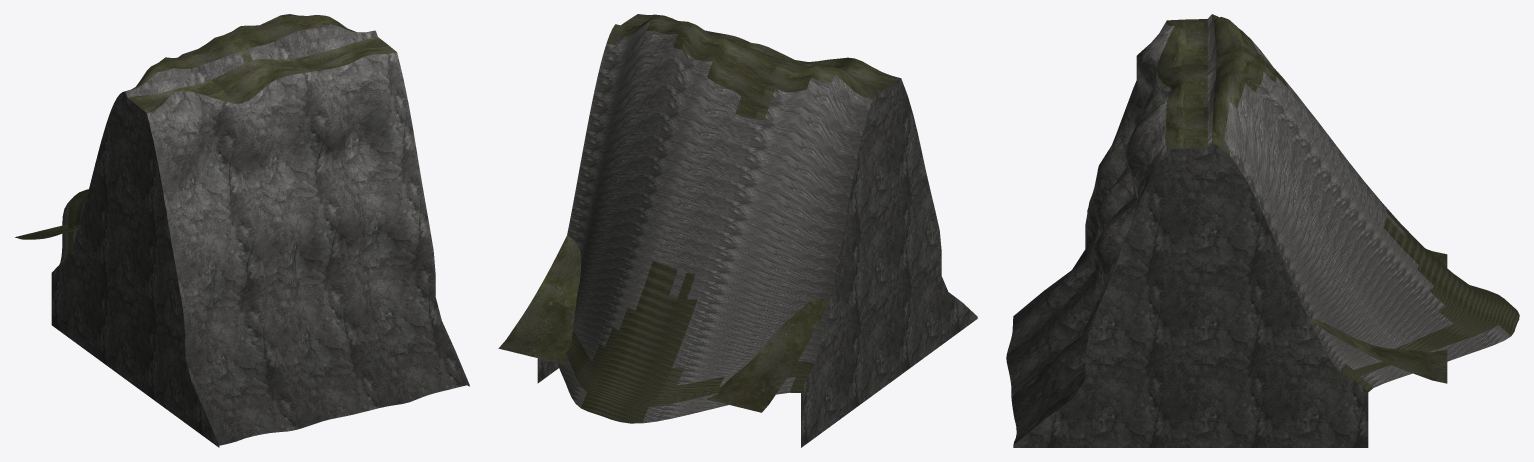
File: seacliff_straight6_h5_v5_summer.glb
3 views of the same model, side by side, from view 1: azimuth 30°, elevation 25°; view 2: azimuth 150°, elevation 25°; view 3: azimuth 270°, elevation 25° (orthographic). The views are drawn at different scales.
Visible parts, largest first — view 1: seacliff_straight6_h5; view 2: seacliff_straight6_h5; view 3: seacliff_straight6_h5.
Boxes of the visible parts, x1,y1,x2,y2 form: seacliff_straight6_h5: (15, 14, 469, 447); seacliff_straight6_h5: (498, 14, 977, 447); seacliff_straight6_h5: (1006, 14, 1519, 447).
Bounding box in the file's own units: 6 × 7.24 × 10.06.
Materials: 2 (2 with a texture image).
